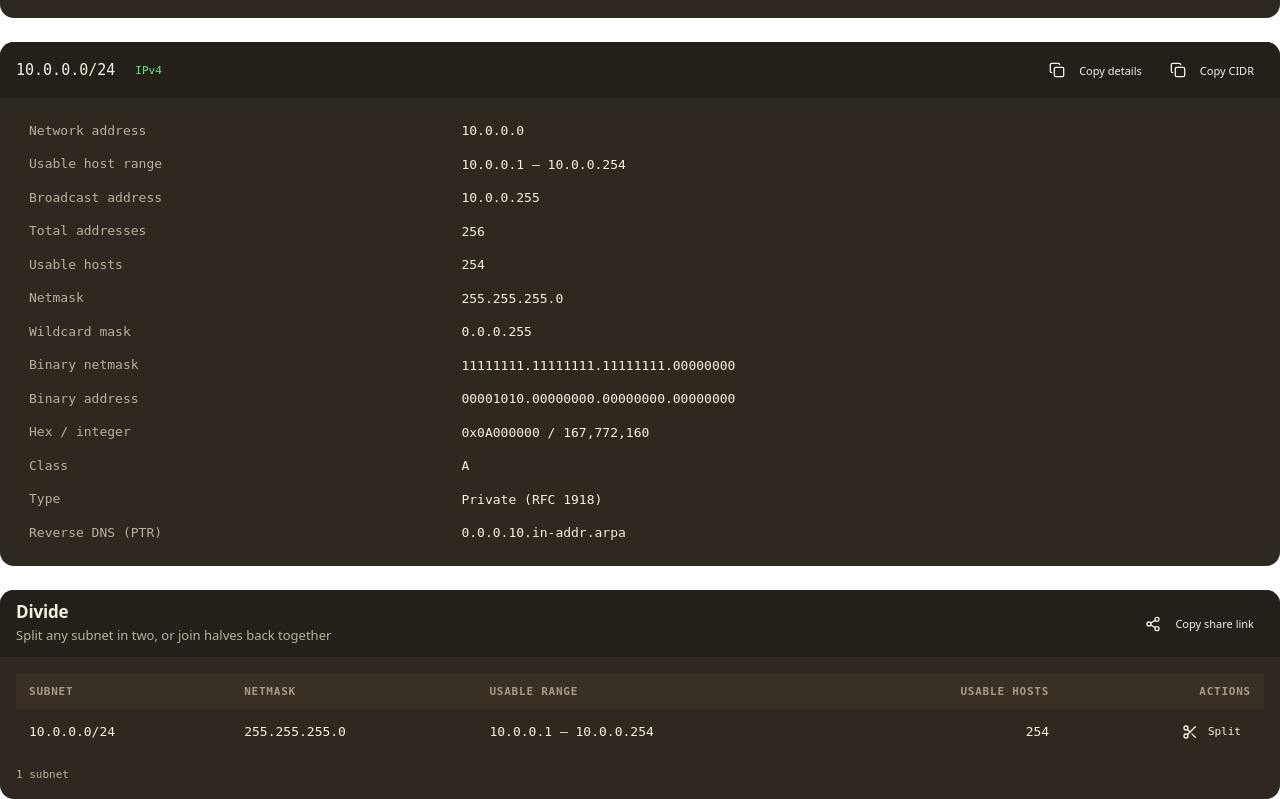
Scenario: subnet-calculator island › split and join drive the divide table
(page scrolled)
Check: the text "10.0.0.0/24" is shown, box [16,60,115,81]
Click the button with aria-label "Split 10.0.0.0/24". click: (1211, 732)
box: [1172,716,1251,748]
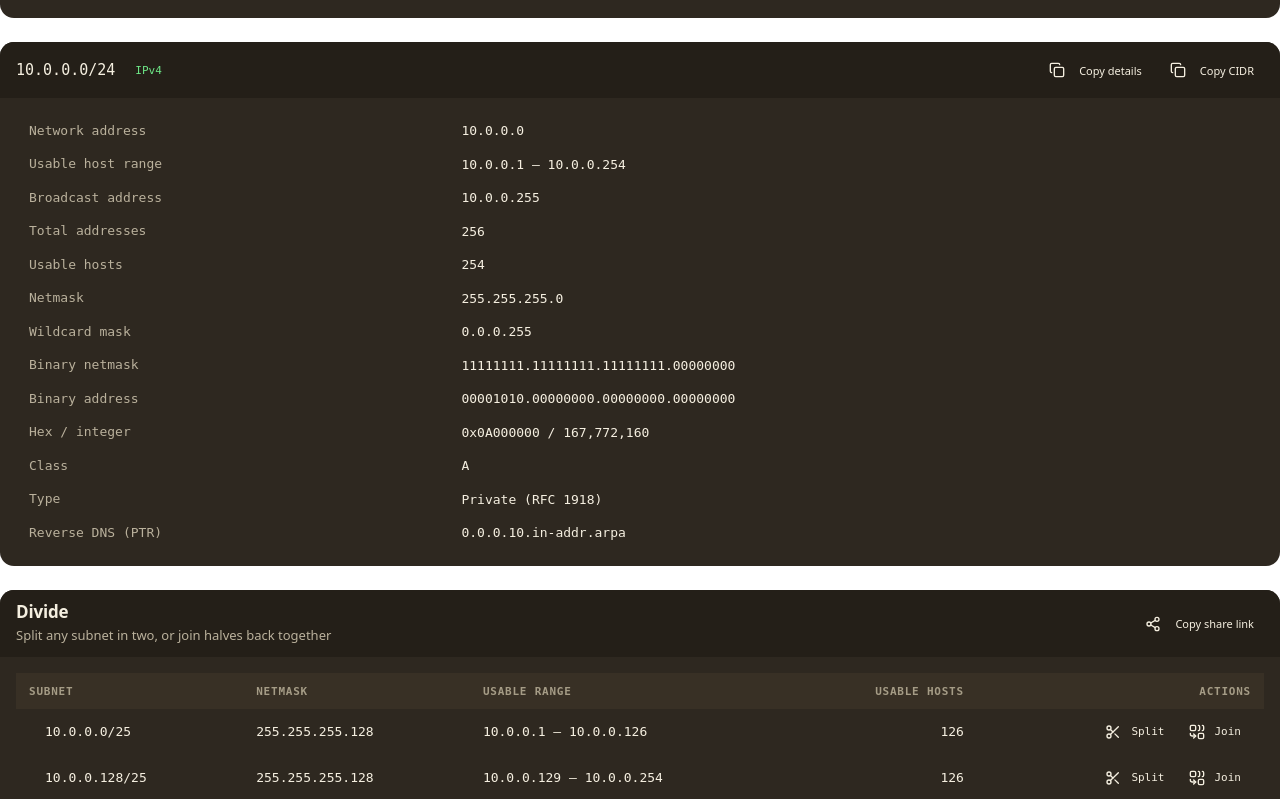
Check: the text "10.0.0.0/25" is shown, box [16,709,243,755]
Click the button with aria-label "join 10.0.0.0/25". click: (1215, 732)
box: [1178,716,1251,748]
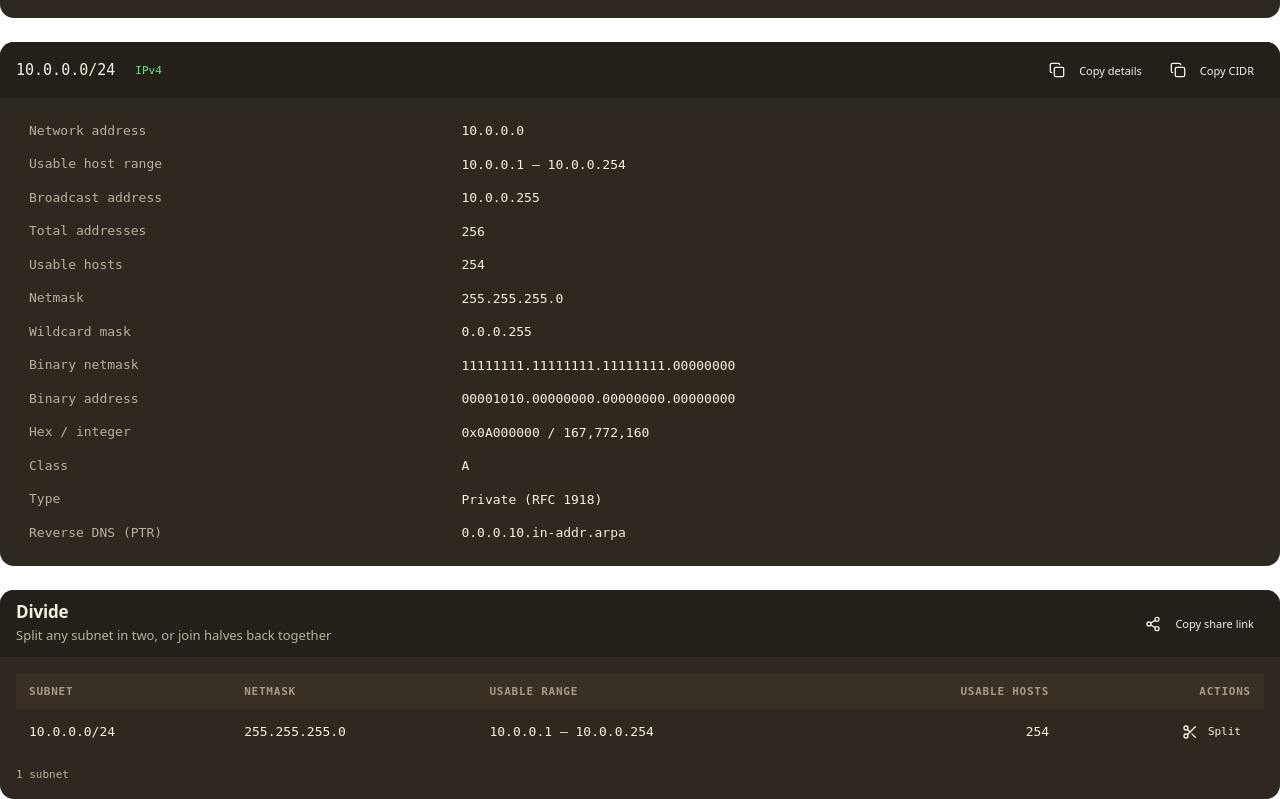
Check: the text "10.0.0.0/25" is gone
